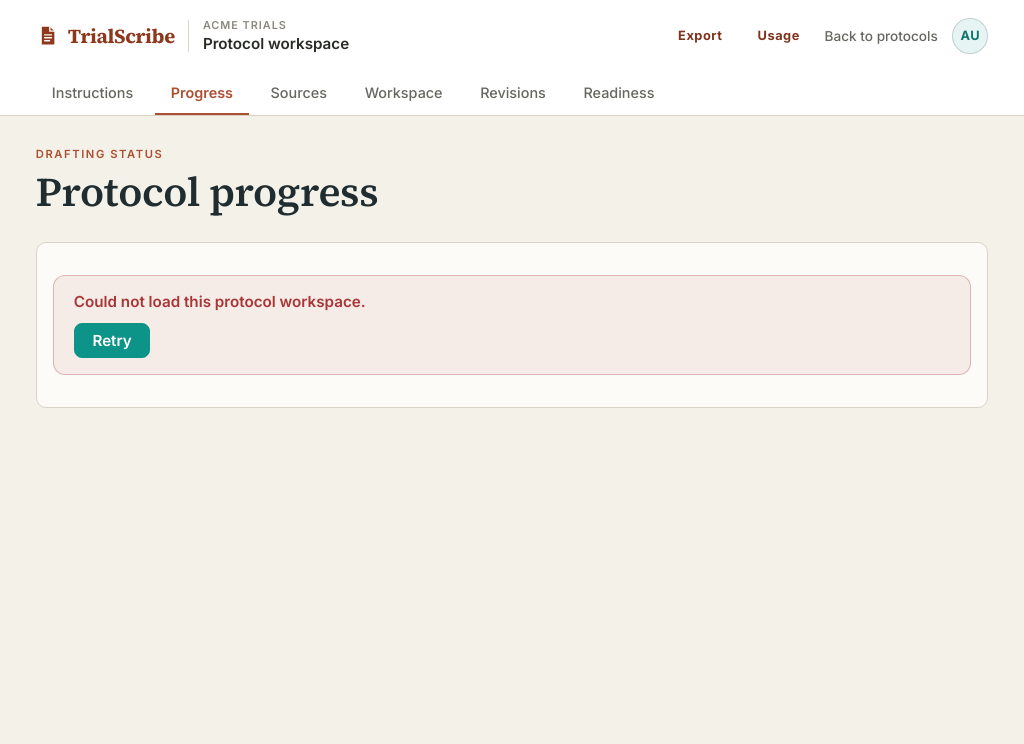
Test: WorkspaceProgressPage › offers a working retry when the workspace fails to load
Expected: the text "Could not load this protocol workspace." is shown, [74,292,366,311]
Click the button "Retry".
click(112, 340)  # box [74,323,150,358]
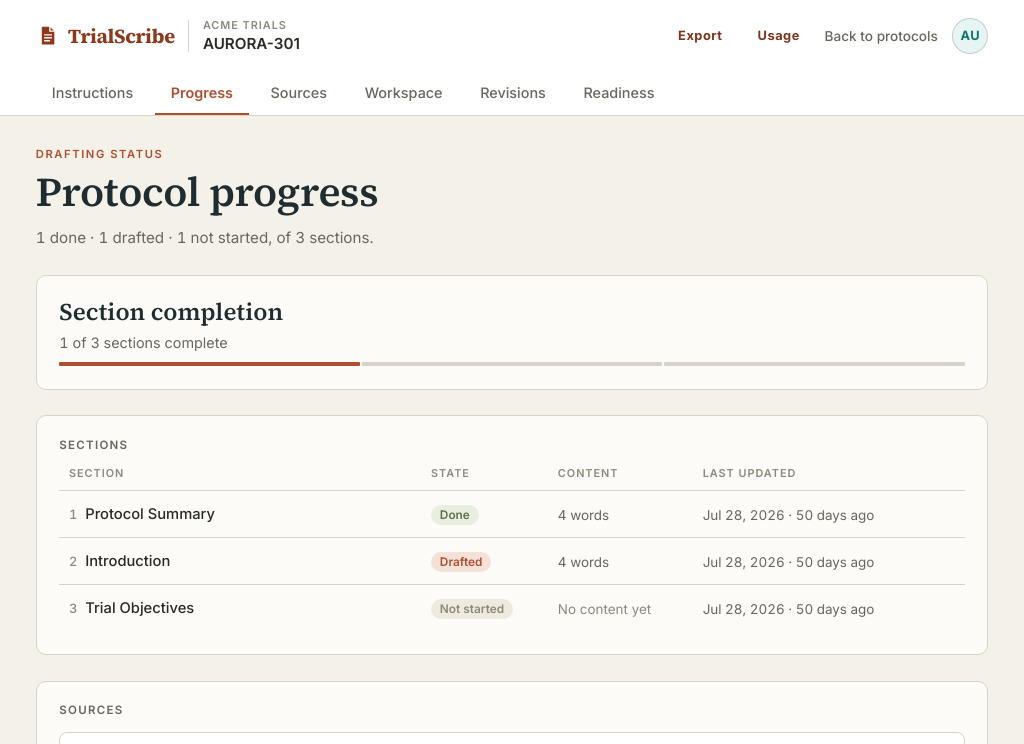
Expected: the link "1 Protocol Summary" is shown, [69,505,215,523]
